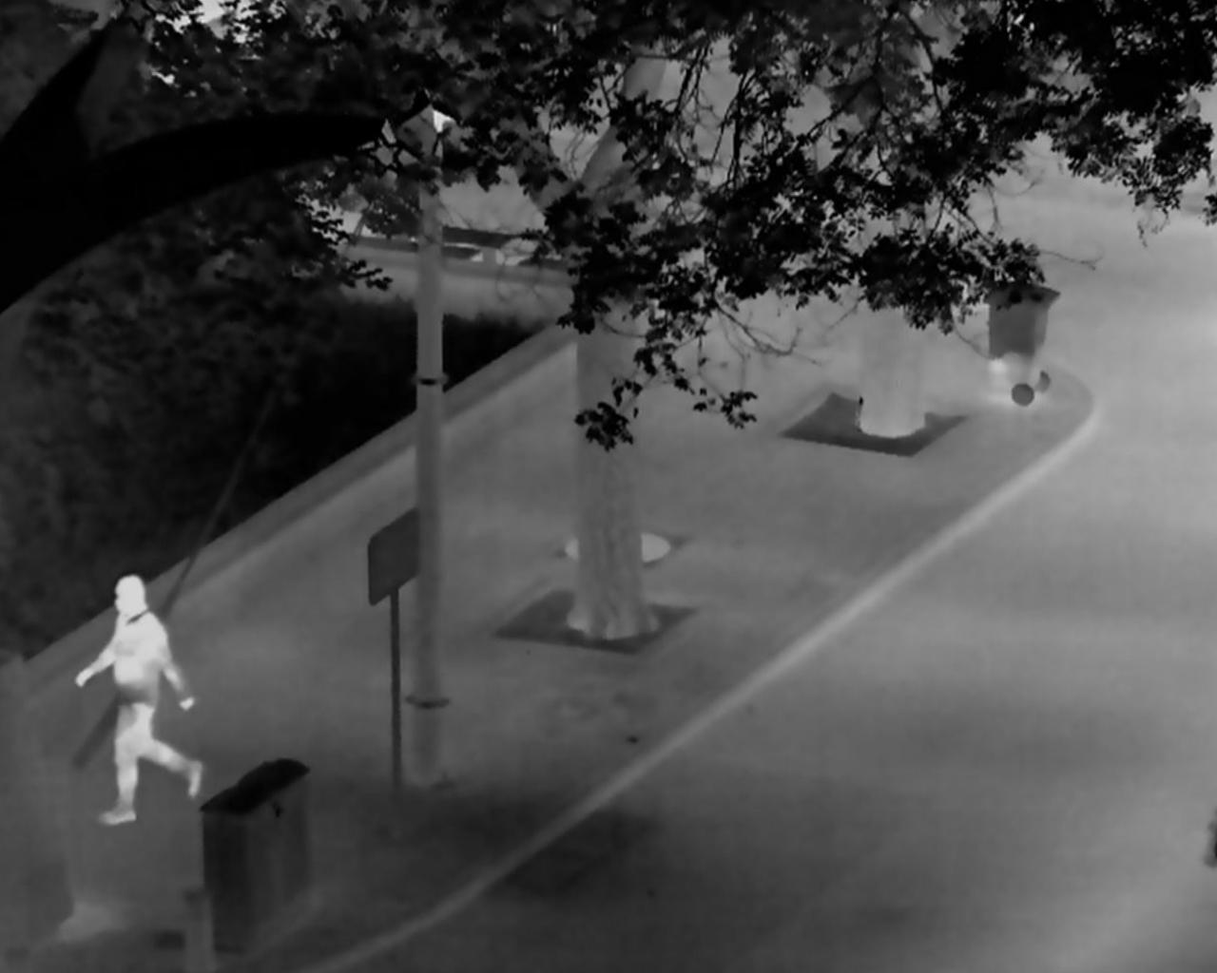person: (75, 574, 203, 826)
